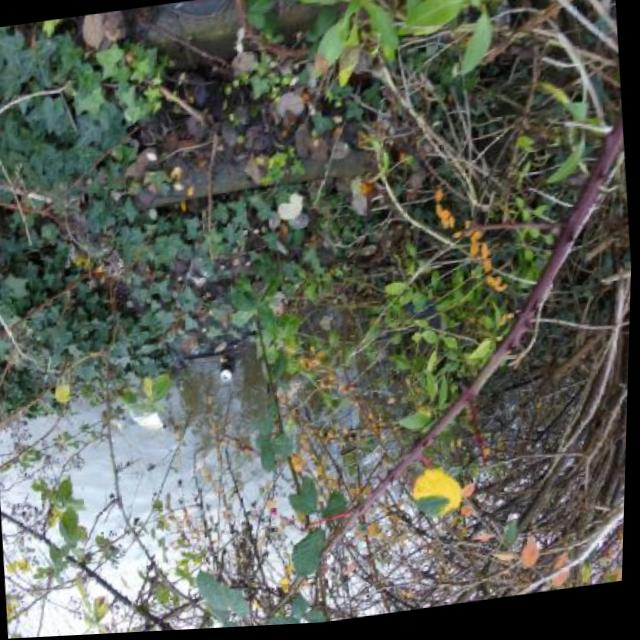metal: (217, 357, 236, 384)
